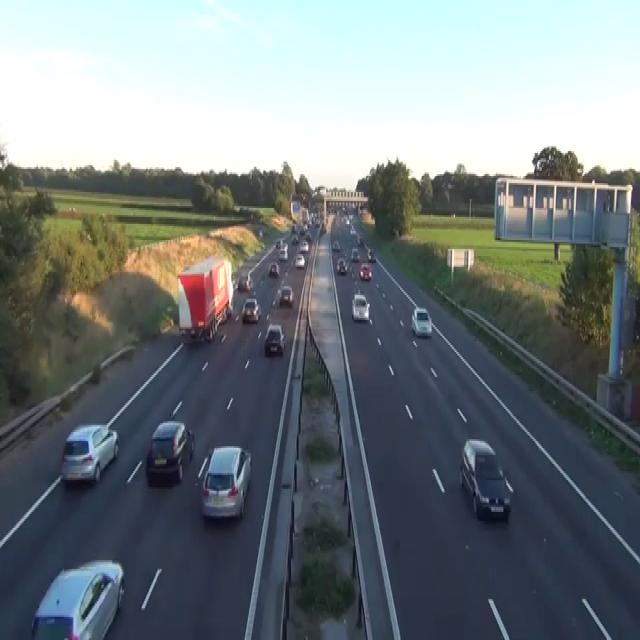Car: (31, 558, 125, 638), (459, 437, 511, 521), (200, 445, 251, 519), (60, 423, 119, 484), (146, 418, 195, 483), (264, 324, 285, 356), (411, 306, 432, 336), (351, 293, 370, 320), (241, 297, 260, 323), (278, 284, 294, 306), (237, 272, 252, 290), (359, 263, 372, 279), (336, 258, 347, 274), (268, 262, 279, 276), (294, 252, 305, 266), (278, 246, 288, 260), (276, 236, 285, 249), (351, 247, 359, 261), (299, 240, 308, 251), (367, 249, 375, 261), (332, 240, 340, 251), (231, 277, 237, 290), (299, 224, 306, 235), (291, 233, 298, 243), (305, 231, 311, 242), (313, 217, 320, 226), (349, 226, 356, 234), (321, 222, 326, 233), (275, 238, 281, 247), (356, 234, 361, 243), (345, 217, 349, 226), (291, 224, 295, 233), (259, 228, 263, 236)
Truck: (176, 256, 234, 343), (290, 199, 301, 222)
